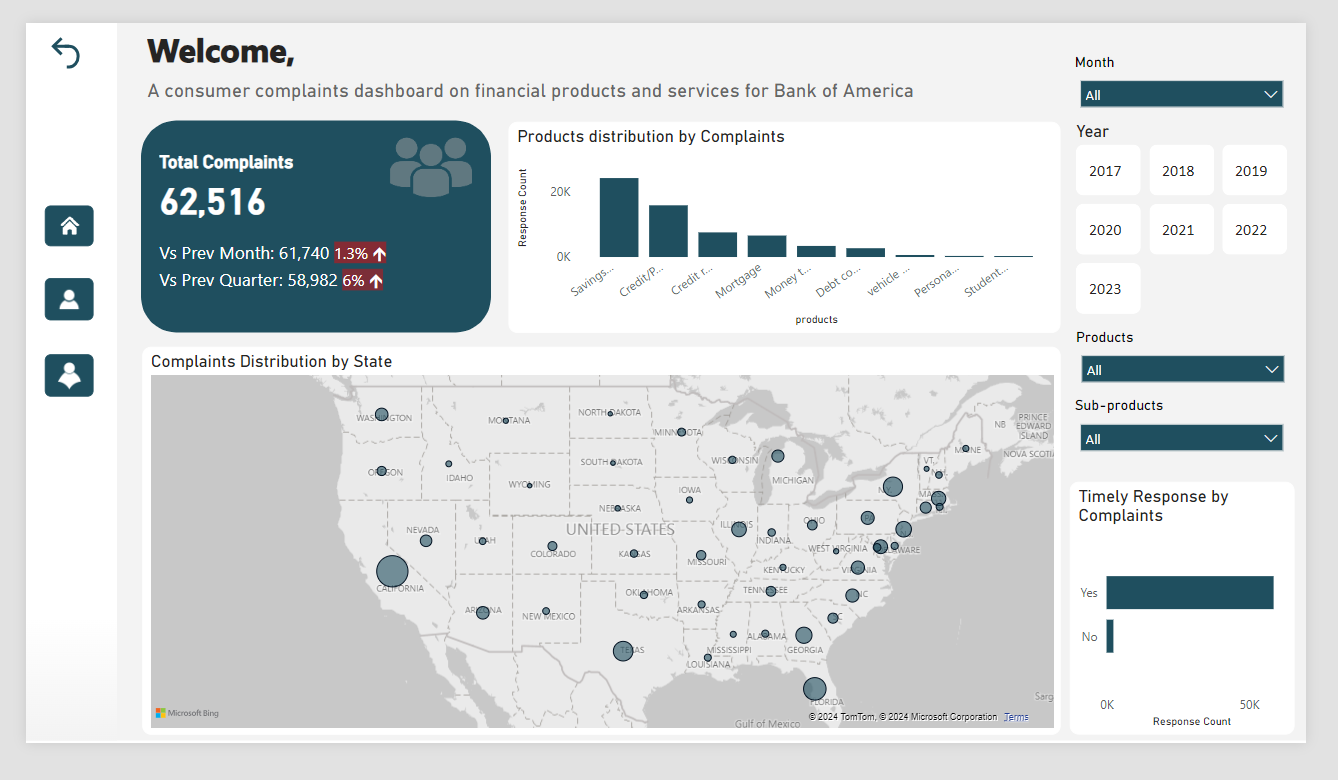

The page's visual inventory and layout, read from the dashboard file:
{"tool":"powerbi","page":{"name":"Page  2","canvas":[1280,720],"ordinal":1},"visuals":[{"type":"cardVisual","fields":{"Data":["DAX  Measures.Total Number of Complaints"]},"box":[116.5,64.6,339.2,265.8],"z":0},{"type":"textbox","box":[116.1,0,367.7,64.5],"z":1000},{"type":"textbox","box":[116.5,50.6,955.7,48.1],"z":2000},{"type":"columnChart","title":"Products distribution by Complaints","fields":{"Category":["Products.products"],"Y":["DAX  Measures.Total Complaints"]},"box":[483.1,98.6,552.1,211.3],"z":3000},{"type":"advancedSlicerVisual","fields":{"Values":["date.Year"]},"box":[1045.6,97.1,222.1,198.5],"z":4000},{"type":"image","box":[19.1,182.4,48.5,41.2],"z":5000},{"type":"image","box":[19.1,254.4,48.5,42.6],"z":6000},{"type":"image","box":[19.1,330.9,48.5,42.6],"z":7000},{"type":"actionButton","box":[18.8,8.7,58,42],"z":8000},{"type":"slicer","title":"Month","fields":{"Values":["date.Date.Variation.Date Hierarchy.Month"]},"box":[1044.1,29.4,223.5,69.1],"z":9000},{"type":"slicer","title":"Products","fields":{"Values":["Products.products"]},"box":[1045.6,304.4,223.5,69.1],"z":10000},{"type":"slicer","title":"Sub-products","fields":{"Values":["complaints.Sub-product"]},"box":[1044.1,373.5,223.5,69.1],"z":11000},{"type":"map","title":"Complaints Distribution by State","fields":{"Category":["complaints.State name"],"Size":["DAX  Measures.Total Complaints"]},"box":[116.3,323.3,918.6,388.4],"z":12000},{"type":"clusteredBarChart","title":"Timely Response by Complaints","fields":{"Category":["complaints.Timely response"],"Y":["CountNonNull(complaints.Response Count)"]},"box":[1044.1,458.8,225,252.9],"z":13000}]}

Visuals, with their boxes on the page's 1280x720 design canvas (x1, y1, x2, y2). These are canvas units, not pixel positions in the 1338x780 screenshot, which may show the page scaled, cropped or inside an application window:
cardVisual - DAX  Measures.Total Number of Complaints: box(116, 65, 456, 330)
textbox: box(116, 0, 484, 64)
textbox: box(116, 51, 1072, 99)
"Products distribution by Complaints" columnChart: box(483, 99, 1035, 310)
advancedSlicerVisual - date.Year: box(1046, 97, 1268, 296)
image: box(19, 182, 68, 224)
image: box(19, 254, 68, 297)
image: box(19, 331, 68, 374)
actionButton: box(19, 9, 77, 51)
"Month" slicer: box(1044, 29, 1268, 98)
"Products" slicer: box(1046, 304, 1269, 374)
"Sub-products" slicer: box(1044, 374, 1268, 443)
"Complaints Distribution by State" map: box(116, 323, 1035, 712)
"Timely Response by Complaints" clusteredBarChart: box(1044, 459, 1269, 712)
